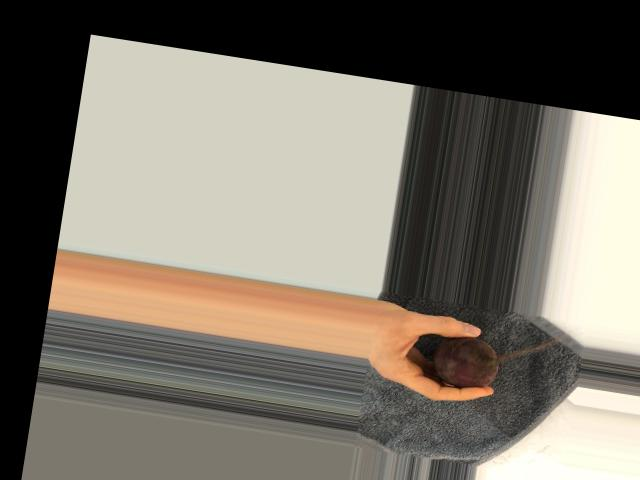beet: (429, 331, 502, 392)
